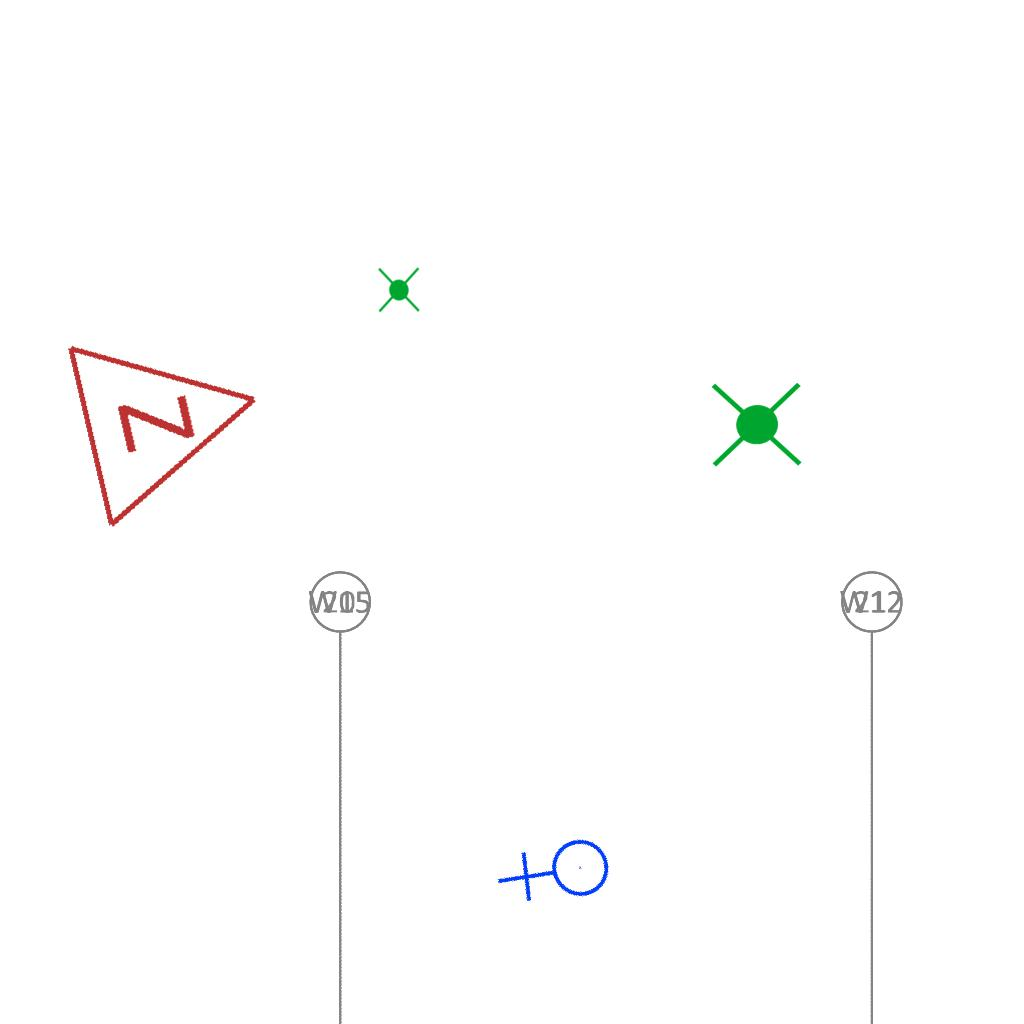Elektroanschluss_allgemein_230V_Geraeteanschlussdose_230V: (492, 808, 629, 942)
Notlichtbaustein_in_Allgemeinbeleuchtug_engebaut_Einbau_(1UG_und_2UG_Aufbauvaria: (707, 372, 807, 475), (374, 265, 425, 315)
Zimmersignalleuchte: (51, 298, 291, 534)
